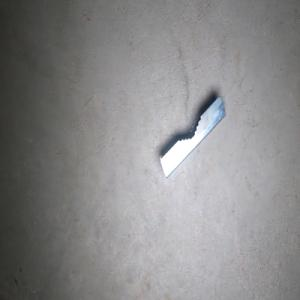ClampPart: (159, 94, 227, 179)
